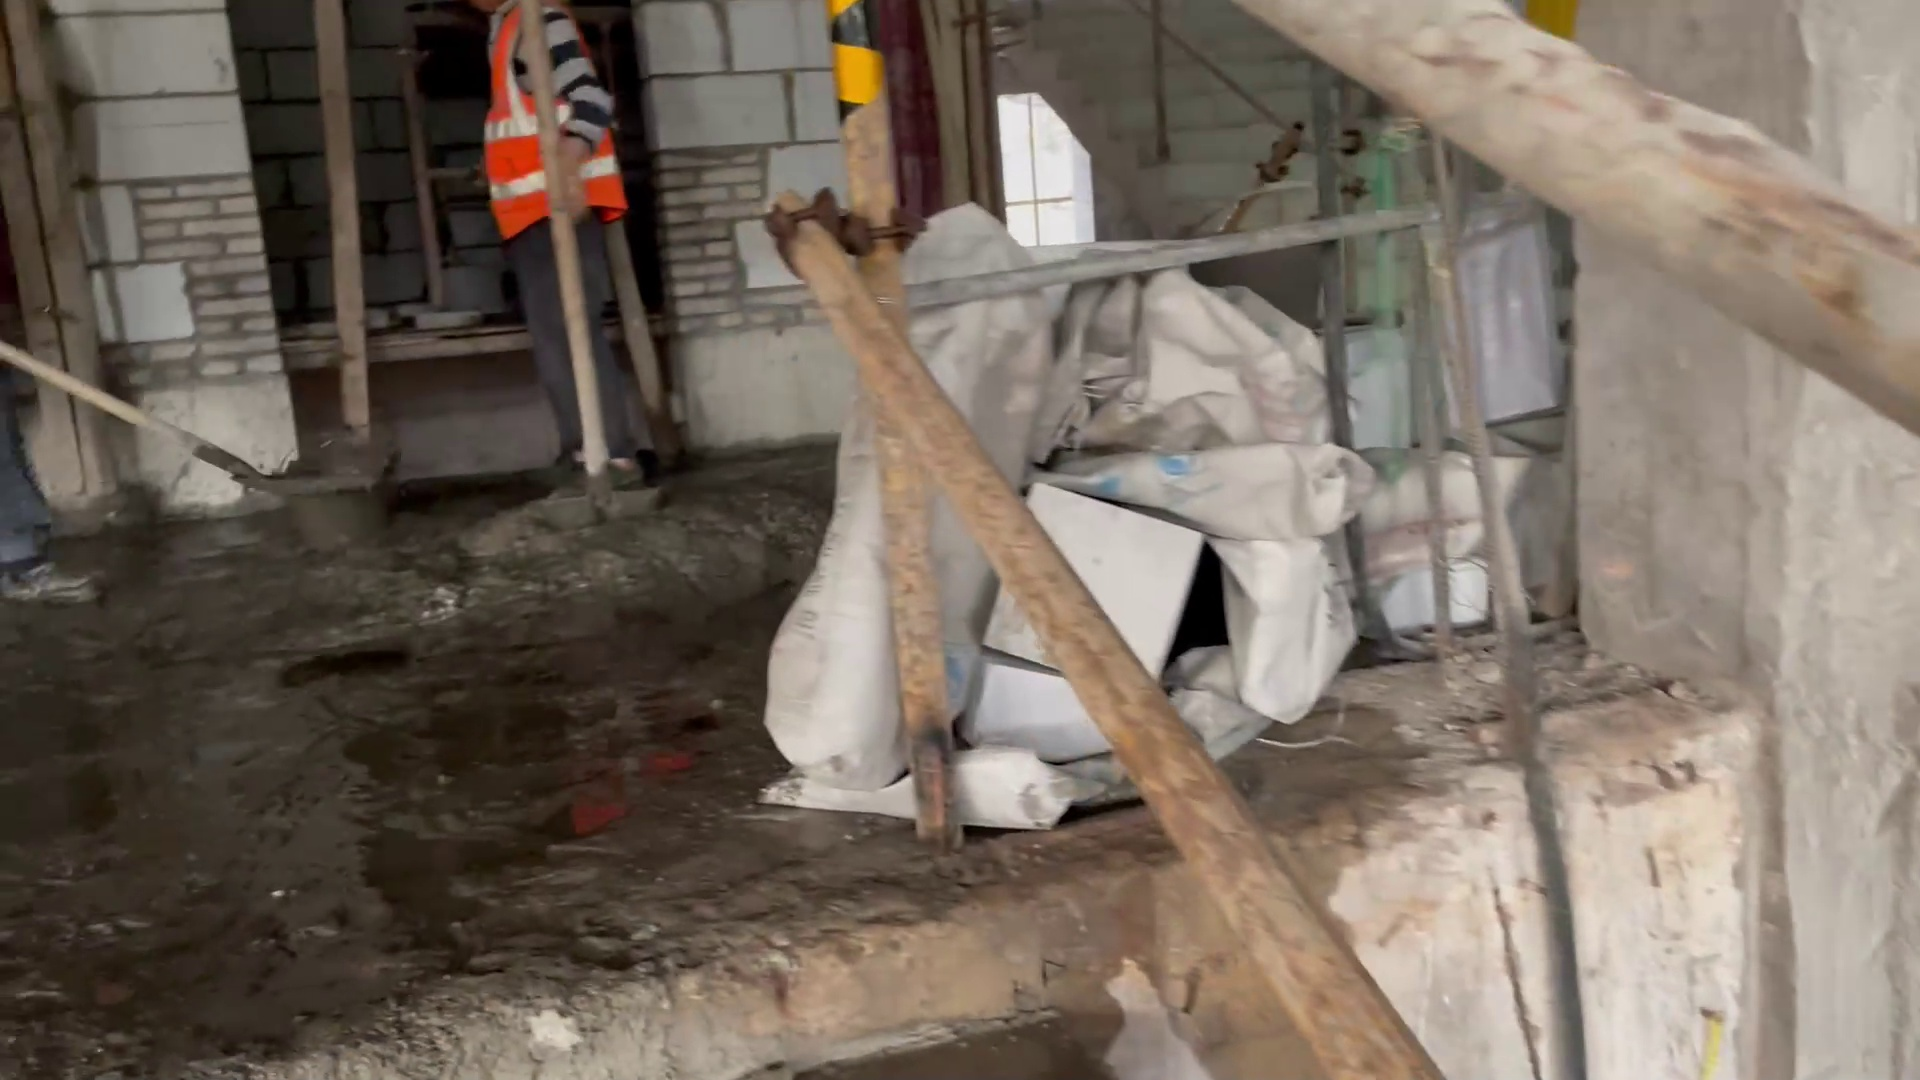person: (470, 13, 663, 473)
vest: (482, 17, 622, 218)
